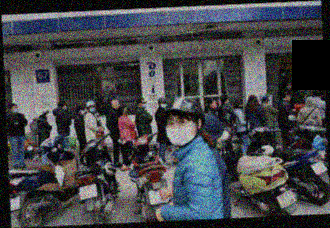with_mask: (164, 115, 197, 148), (160, 100, 167, 110), (12, 105, 19, 113), (123, 107, 129, 116), (141, 100, 147, 109), (212, 100, 218, 109), (89, 105, 96, 112), (286, 83, 293, 90), (79, 108, 85, 115), (280, 71, 287, 77), (239, 102, 244, 110), (226, 97, 230, 105), (304, 95, 308, 102), (45, 111, 48, 119)
without_mask: (113, 101, 121, 110), (286, 95, 293, 103)
